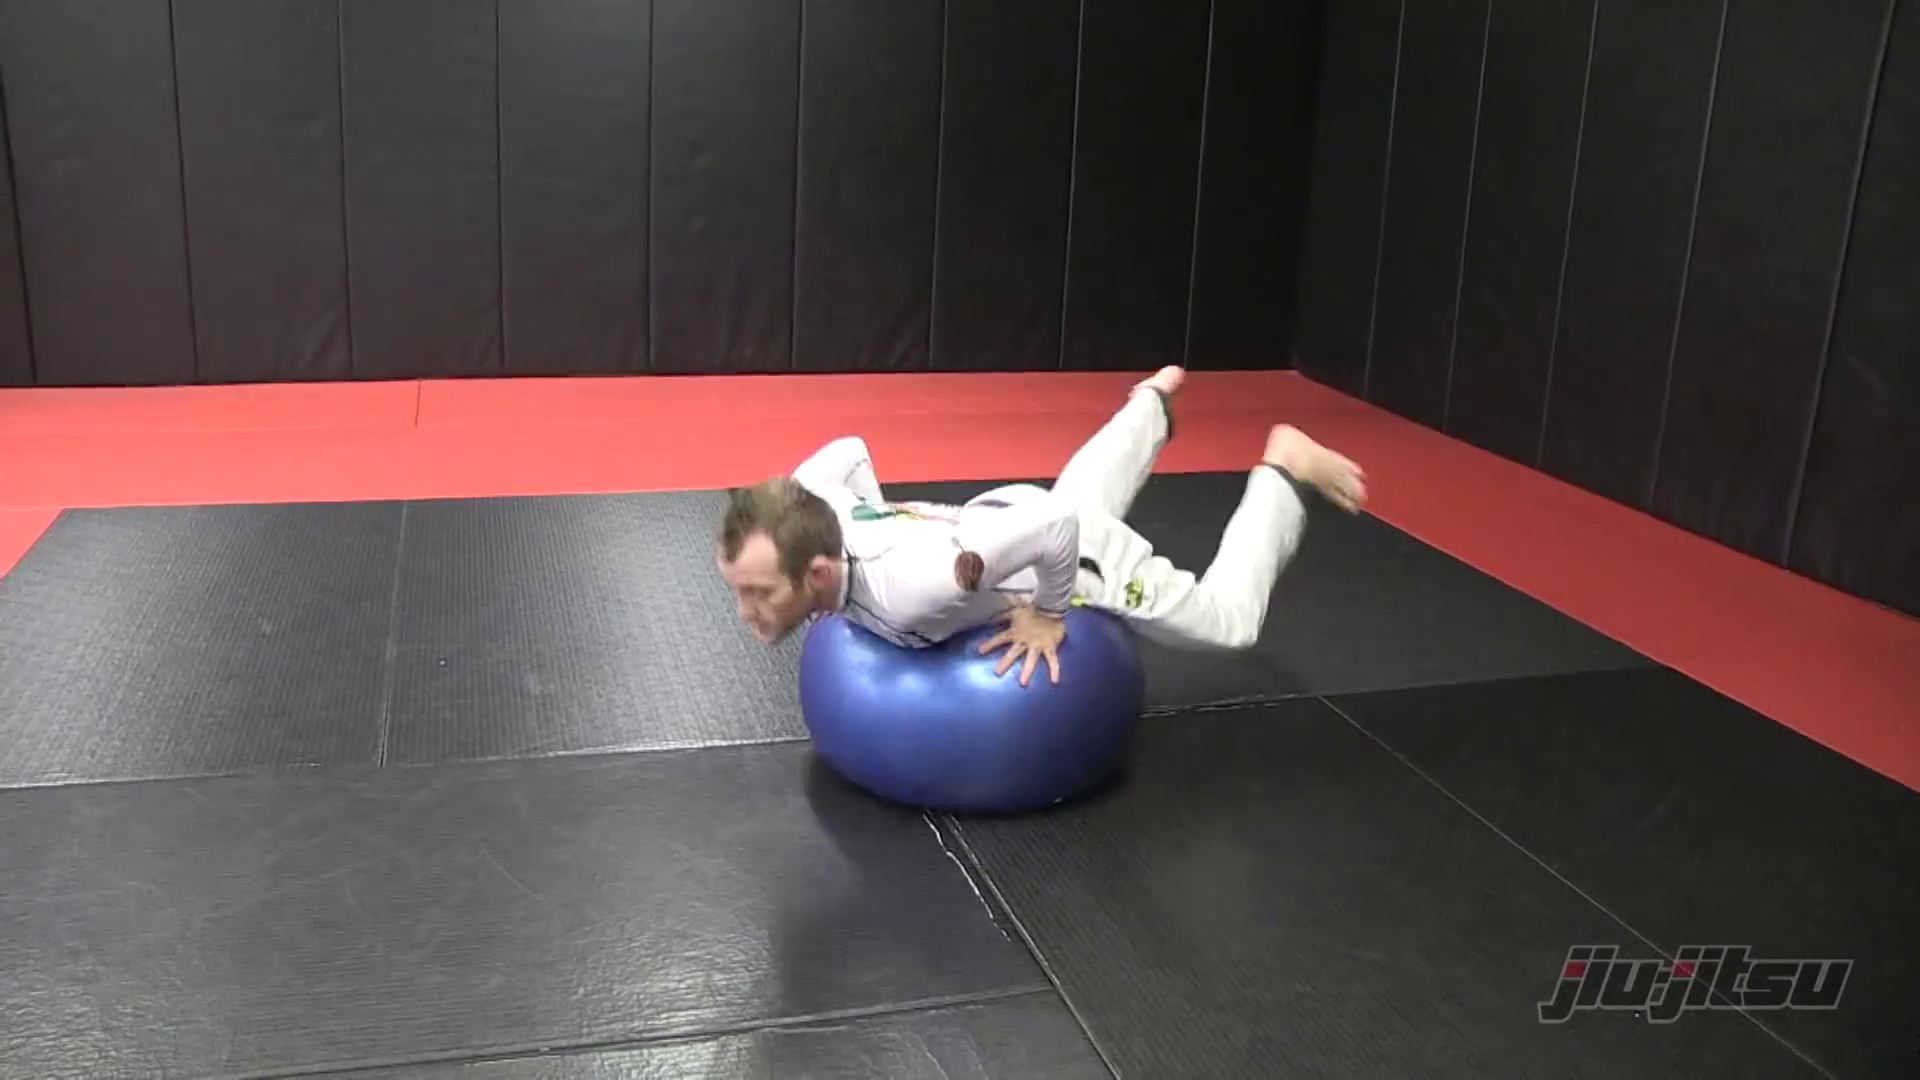yogaball: (778, 597, 1154, 829)
